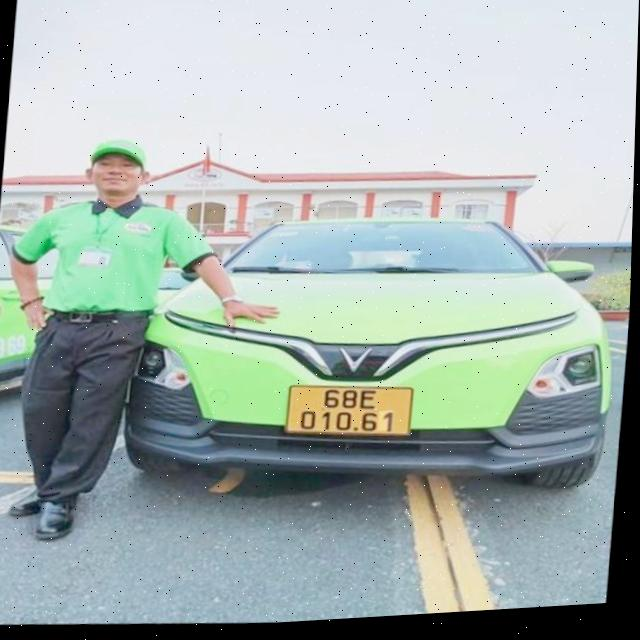car: (109, 174, 634, 523)
plate: (276, 371, 420, 449)
